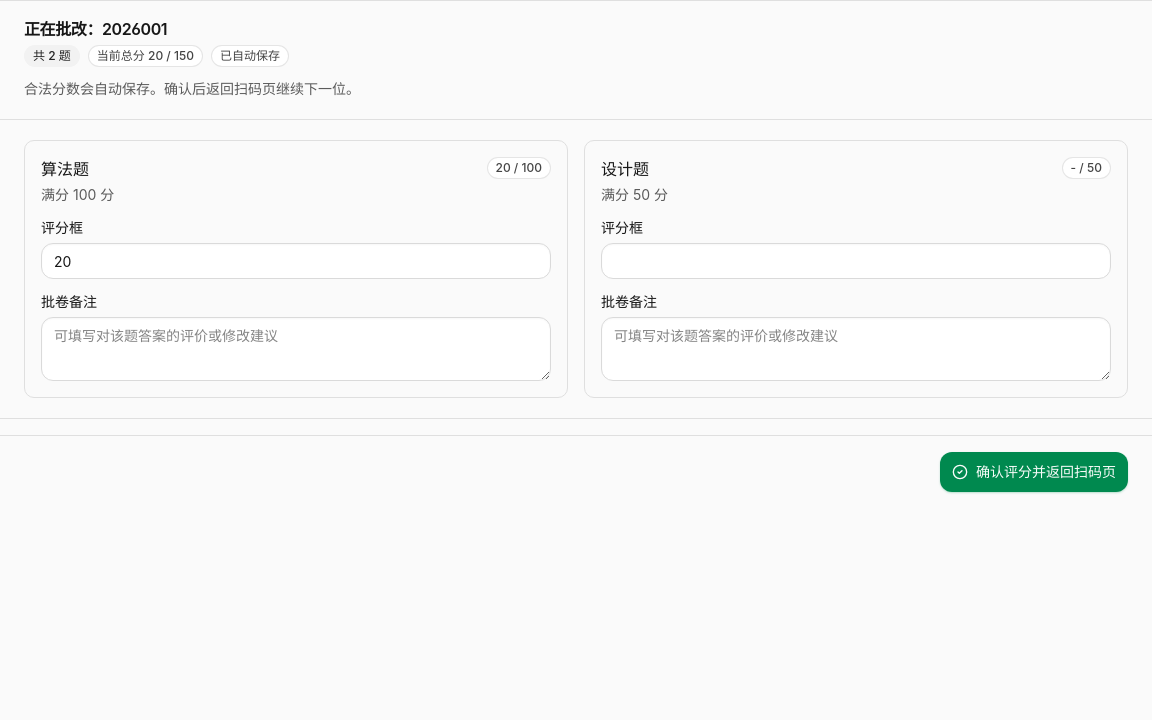
Test case: MarkProblemTable › shows the real reason when the server rejects the score with 422
Replace the text in the number field labelled "评分框" below "算法题" with "88" at (296, 261), box top-left (41, 243), bottom-right (551, 279)
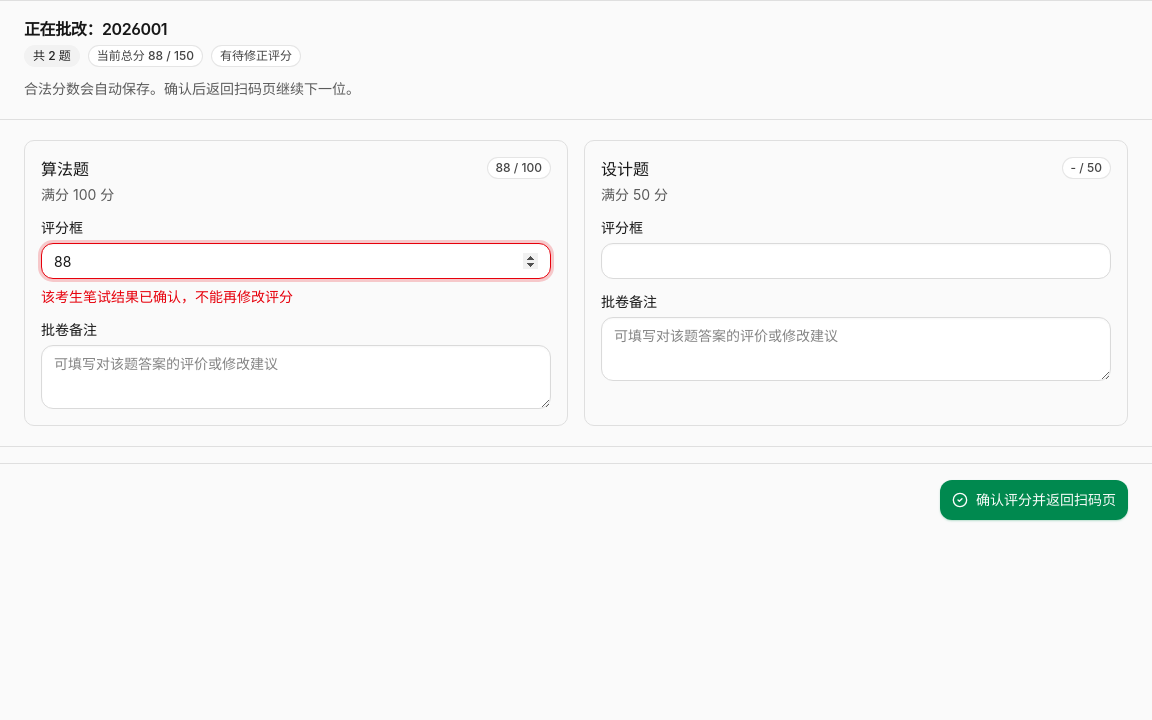
Expected: the text "该考生笔试结果已确认，不能再修改评分" is shown, top-left (41, 288), bottom-right (293, 305)
